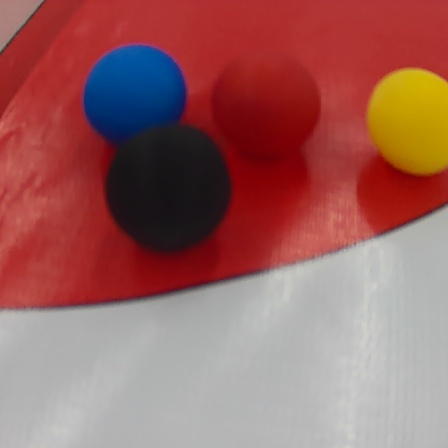black: (105, 126, 233, 251)
blue: (81, 46, 187, 143)
red: (1, 0, 448, 314), (211, 52, 322, 157)
yellow: (365, 65, 448, 177)
